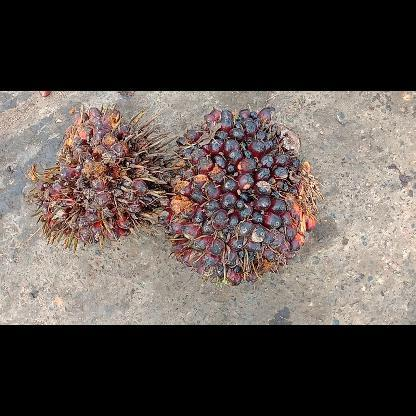Kurang masak: (158, 108, 324, 288)
TBS masak: (30, 103, 178, 250)
